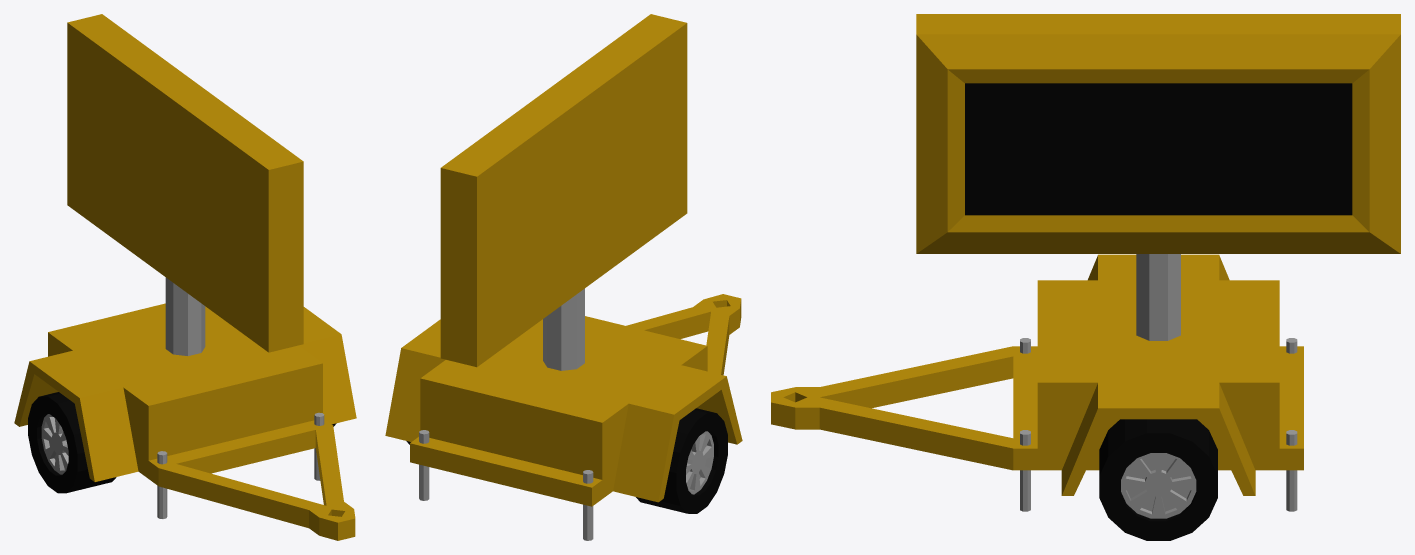
File: variable_message_sign.fbx
3 renders of one model, left to right at view 1: azimuth 30°, elevation 25°; view 2: azimuth 150°, elevation 25°; view 3: azimuth 270°, elevation 25°, orthographic. The views are drawn at different scales.
Visible parts, largest first — view 1: Cube.002, Cube, Cube.003, Cube.001, Cube.005, wheel_back_left.005, Cylinder, Cube.004, wheel_back_left.003, Cylinder.001; view 2: Cube.002, Cube, Cube.001, Cube.003, Cube.004, wheel_back_left.005, Cylinder, Cube.005, wheel_back_left.003, Cylinder.001; view 3: Plane, Cube, Cube.005, Cube.004, Cube.003, Cube.001, wheel_back_left.001, Cube.002, wheel_back_left.004, Cylinder, Cylinder.001.
Boxes of the visible parts, x1,y1,x2,y2 form: Cube.002: (67,18,286,352); Cube: (48,303,322,478); Cube.003: (148,419,355,540); Cube.001: (14,307,356,481); Cube.005: (186,88,303,348); wheel_back_left.005: (28,392,116,493); Cylinder: (165,277,205,355); Cube.004: (85,14,202,91); wheel_back_left.003: (41,414,68,474); Cylinder.001: (157,412,324,518); Cube.002: (459,18,687,367); Cube: (420,316,707,498); Cube.001: (385,319,742,502); Cube.003: (410,294,741,506); Cube.004: (440,91,563,362); wheel_back_left.005: (636,408,727,513); Cylinder: (543,288,584,370); Cube.005: (546,14,668,95); wheel_back_left.003: (686,431,713,494); Cylinder.001: (419,430,593,540); Plane: (965,83,1352,215); Cube: (1037,280,1279,470); Cube.005: (916,24,1158,253); Cube.004: (1158,24,1400,253); Cube.003: (771,346,1303,470); Cube.001: (1061,254,1255,495); wheel_back_left.001: (1099,419,1217,540); Cube.002: (916,14,1400,24); wheel_back_left.004: (1121,453,1196,518); Cylinder: (1136,254,1180,340); Cylinder.001: (1020,338,1297,511).
Size of the model in its own units: 152 by 200 by 260.
